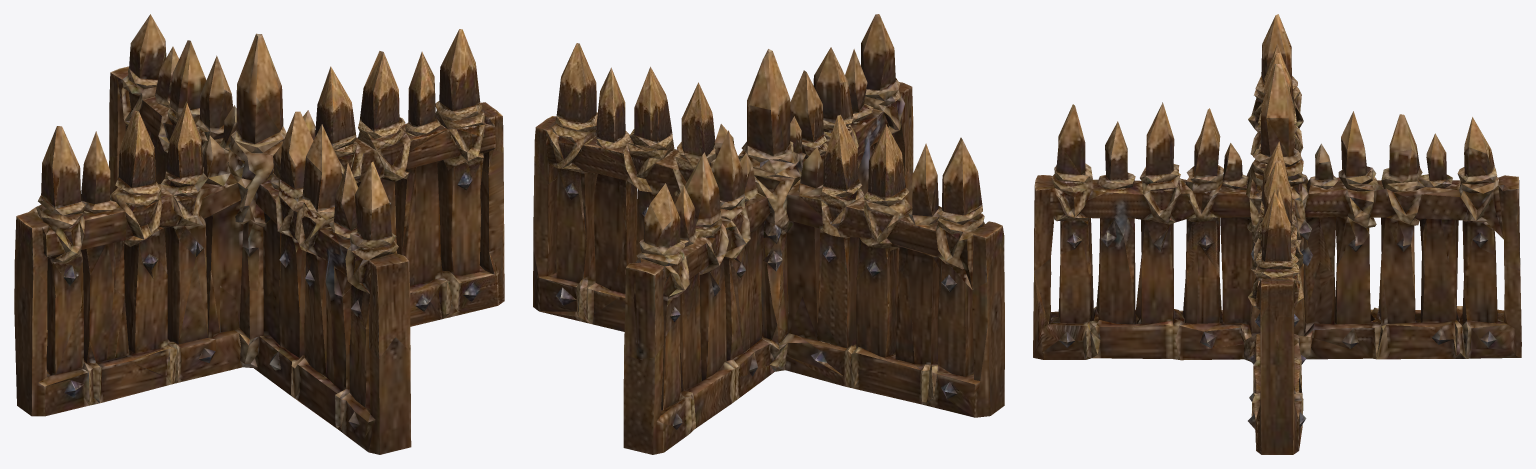
The model's file is barricade-cross.glb.
3 views of the same model, side by side, from view 1: azimuth 30°, elevation 25°; view 2: azimuth 150°, elevation 25°; view 3: azimuth 270°, elevation 25° (orthographic). The views are drawn at different scales.
Visible parts, largest first — view 1: output_unwrapped; view 2: output_unwrapped; view 3: output_unwrapped.
Boxes of the visible parts, x1,y1,x2,y2 form: output_unwrapped: [14, 14, 504, 454]; output_unwrapped: [533, 14, 1004, 454]; output_unwrapped: [1033, 14, 1521, 454].
Bounding box in the file's own units: 1.9 × 1.22 × 1.89.
Materials: 1 (1 with a texture image).
